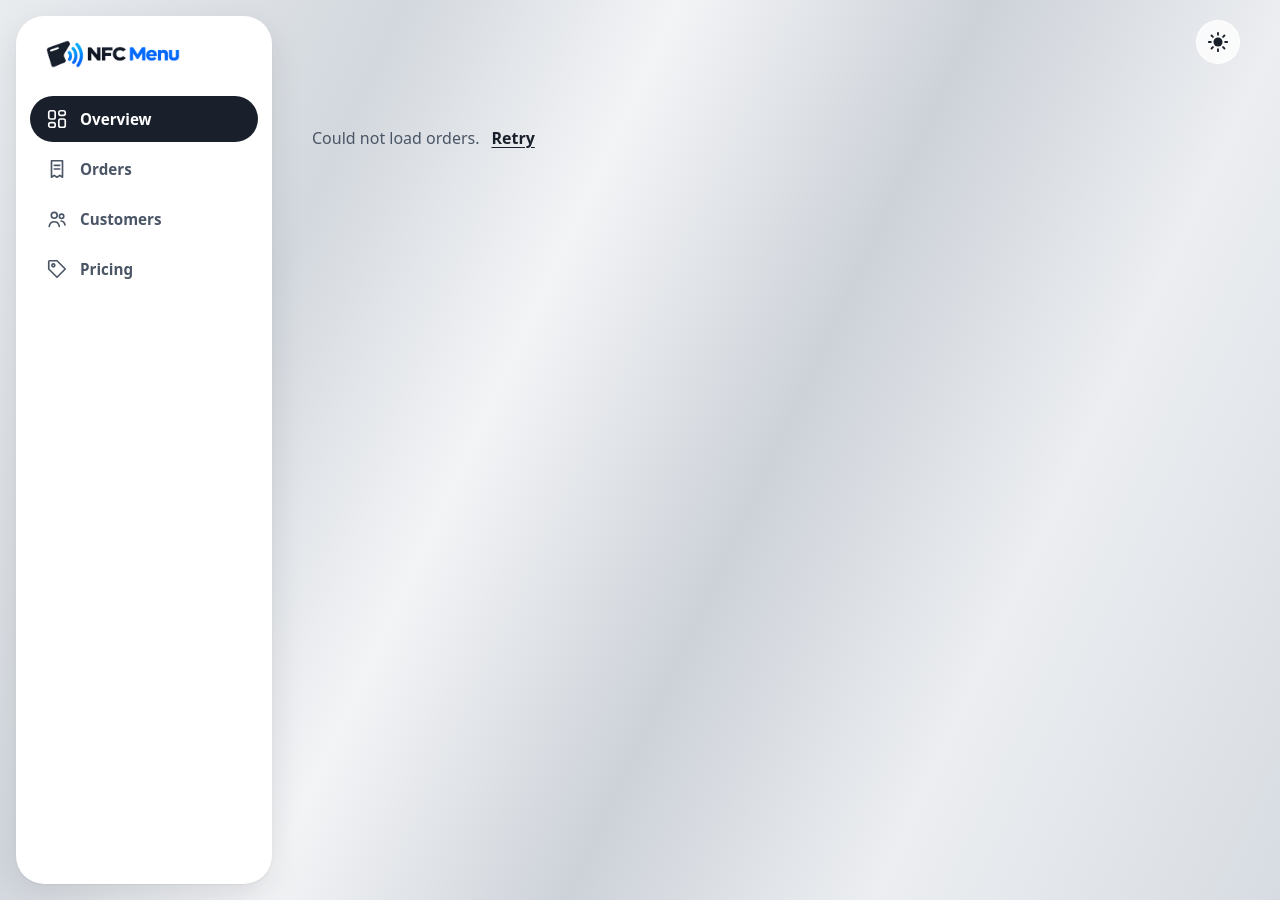
Test: AdminLayout › offers a retry when loading fails, and shows skeletons again while it tries
Expected: the message shows "Could not load orders.", 312,127 -> 480,149
Expected: the text "probe:" is not shown
Click the button "Retry" at (513, 138), box 480,116 -> 547,160
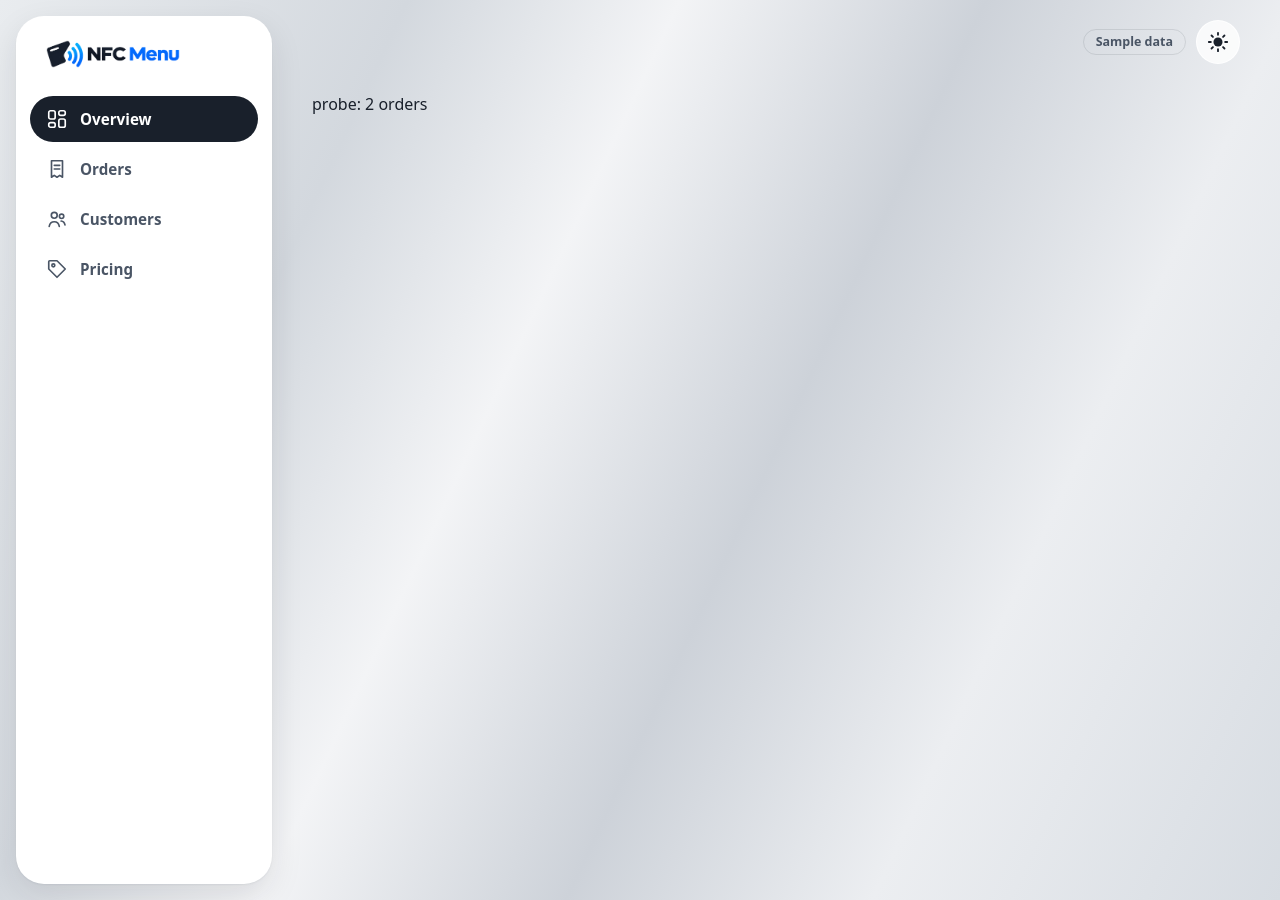
Now the text "probe: 2 orders" is shown, box 312,93 -> 428,115
Now the message "Could not load orders. Retry" is gone
